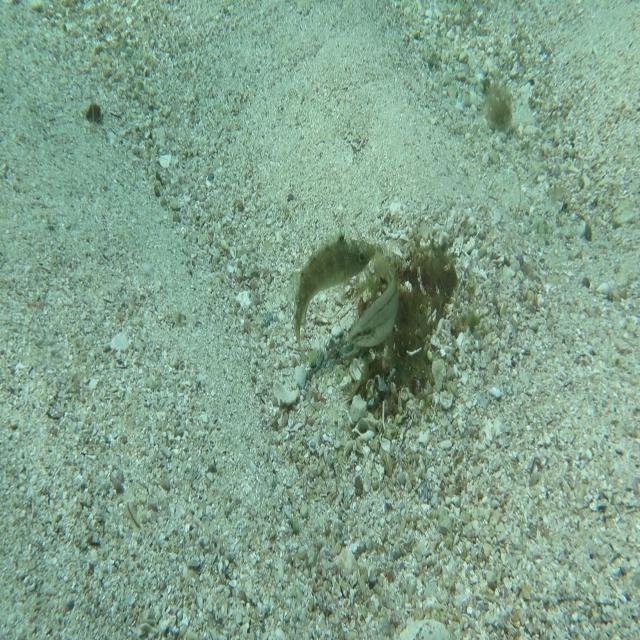BEND: (286, 224, 376, 370)
female: (345, 250, 400, 350)
nest: (327, 193, 465, 409)
